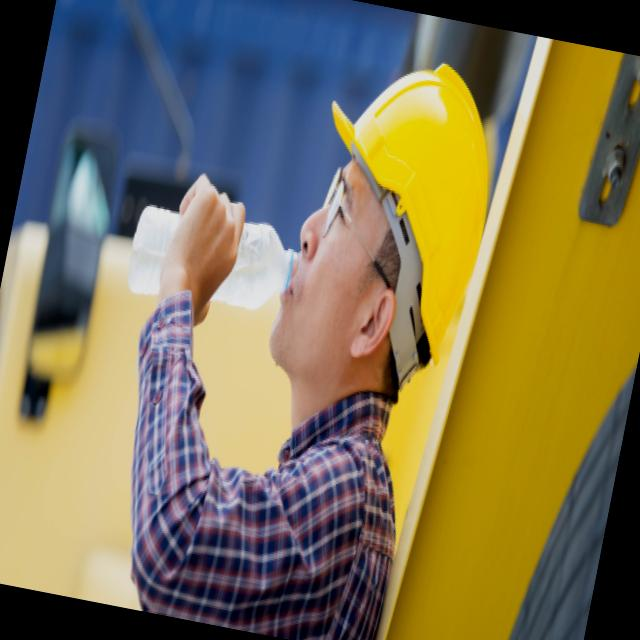goggles: (305, 158, 420, 252)
helmet: (286, 40, 517, 368)
no-vest: (130, 361, 423, 640)
